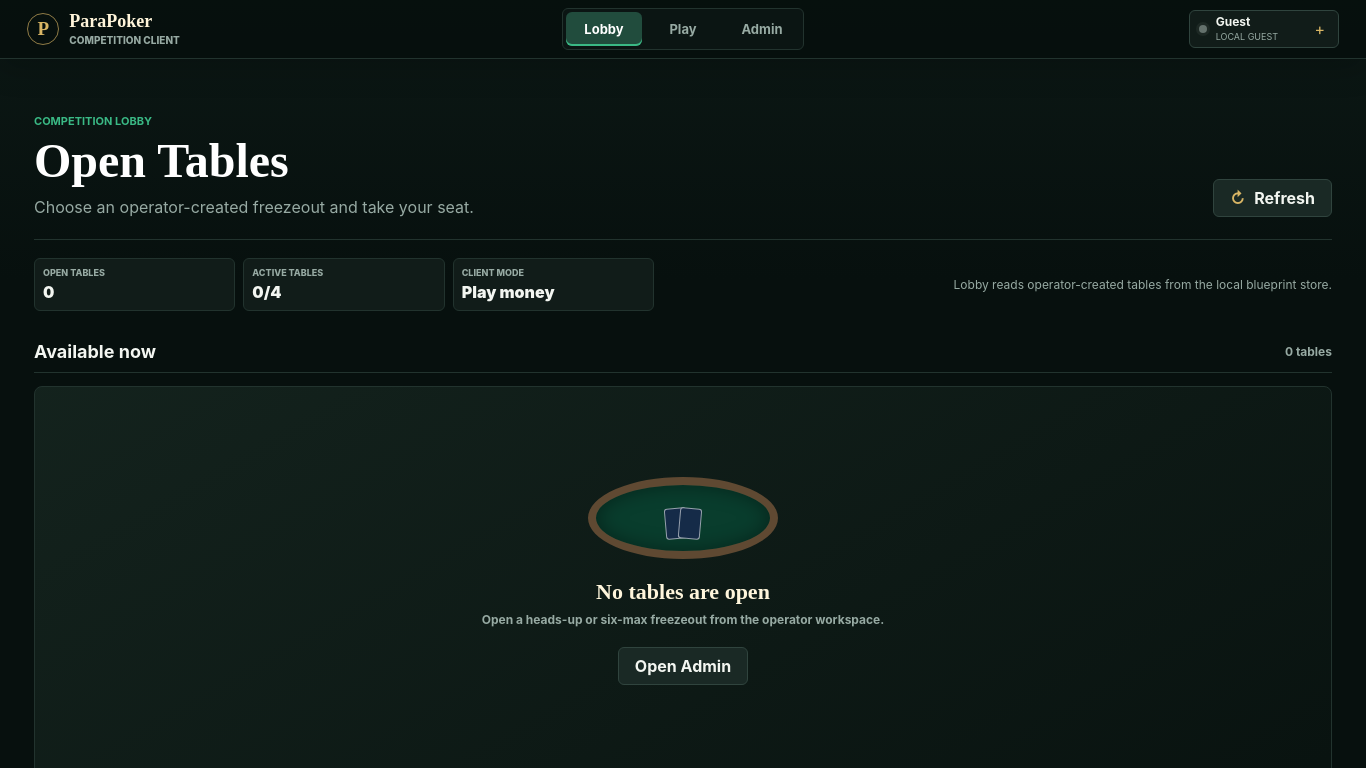
it: App navigation › lists open lobby tables and joins one into the playable local client
Click the button "Admin". click: (762, 29)
box: x1=724 y1=12 x2=800 y2=46
(page scrolled)
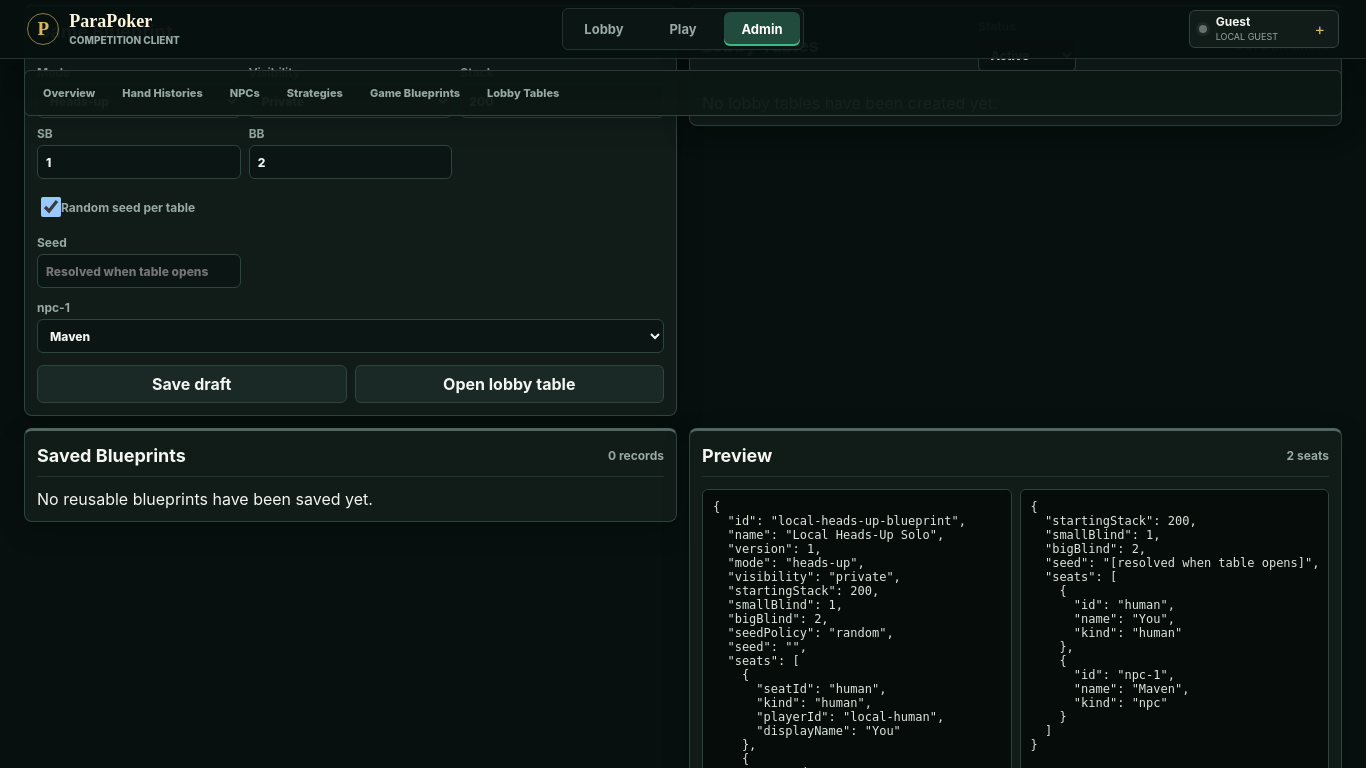
Click the button "Open lobby table". click: (509, 384)
box: x1=354 y1=365 x2=664 y2=403
(page scrolled)
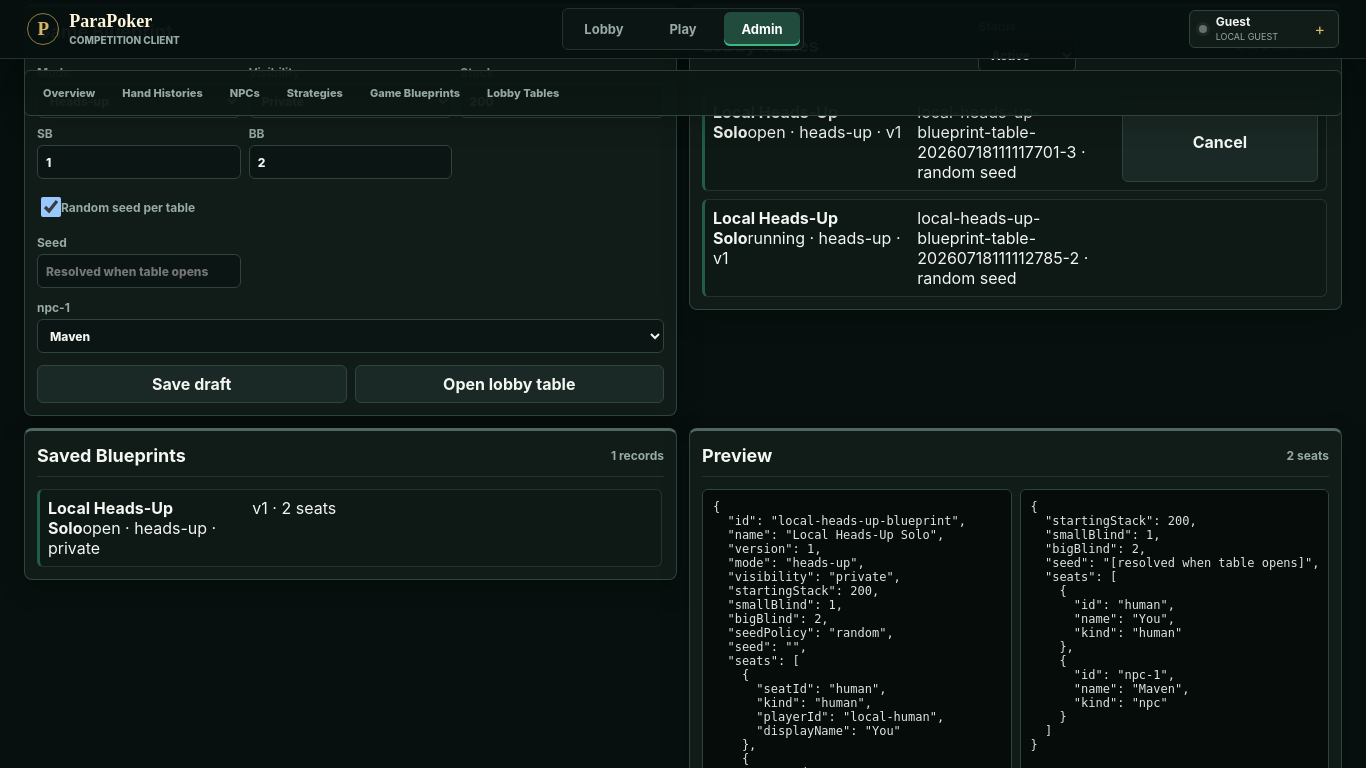
Expected: the element named "Lobby table drafts" shows "open", x1=747 y1=122 x2=786 y2=142
Click the button "Lobby". click: (604, 29)
box: x1=566 y1=12 x2=642 y2=46
(page scrolled)
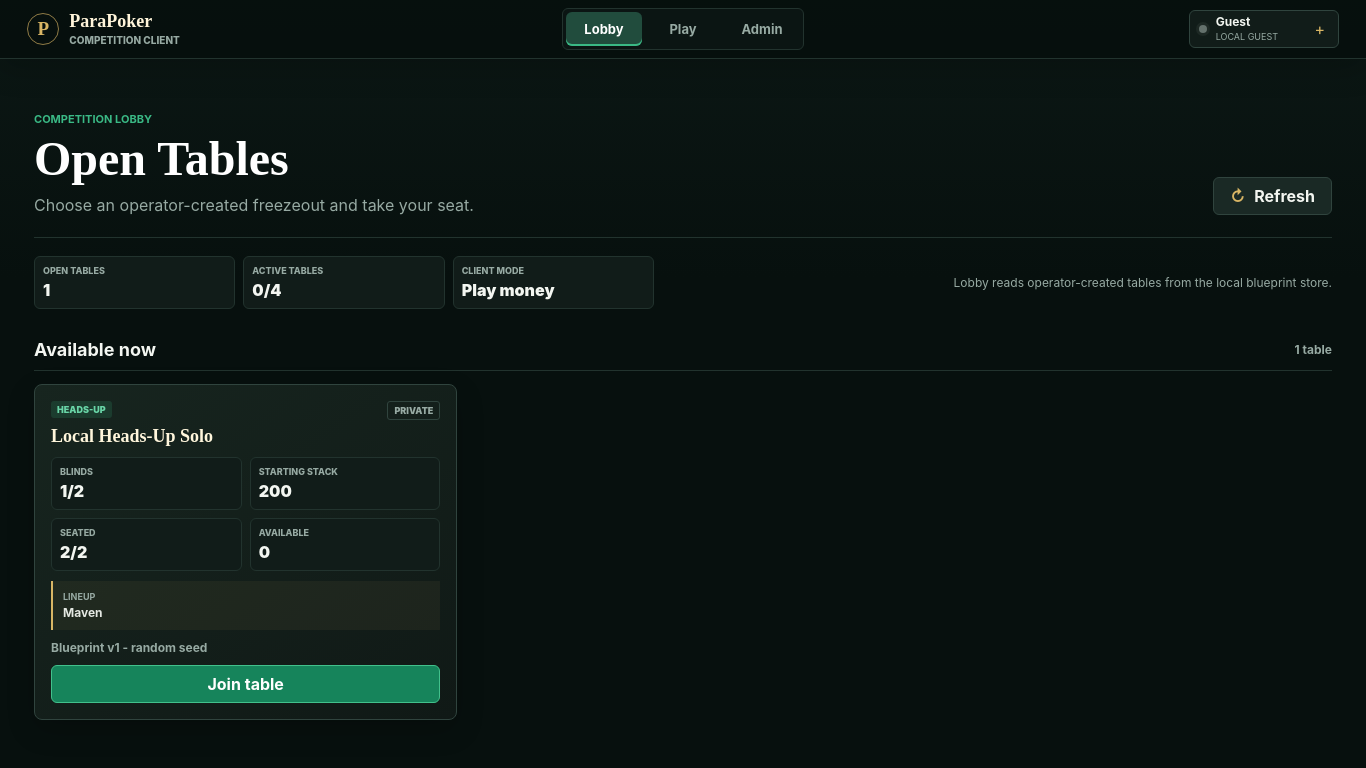
Expected: the element named "Open lobby tables" shows "Local Heads-Up Solo", x1=51 y1=426 x2=213 y2=446
Click the button "Join table". click: (246, 684)
box: x1=51 y1=665 x2=440 y2=703
(page scrolled)
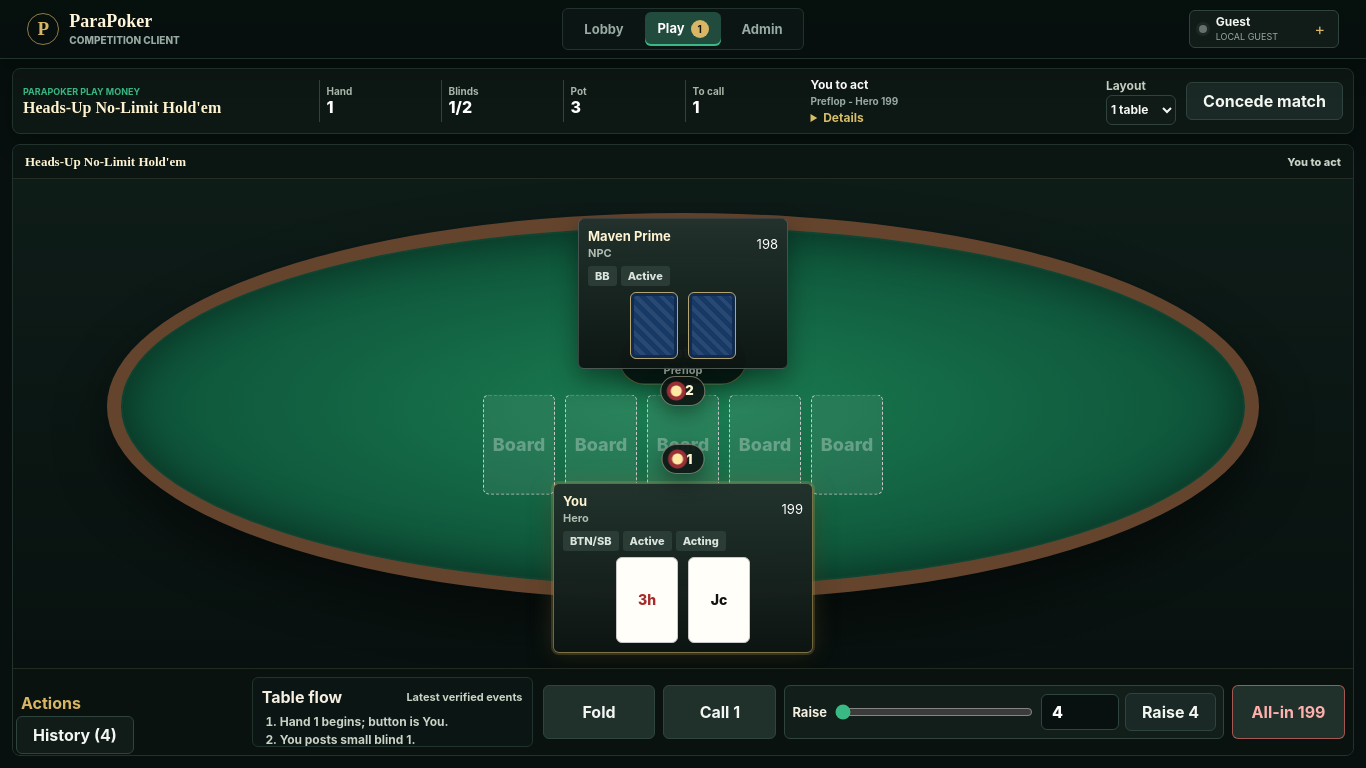
Expected: the element named "Poker table" is shown
